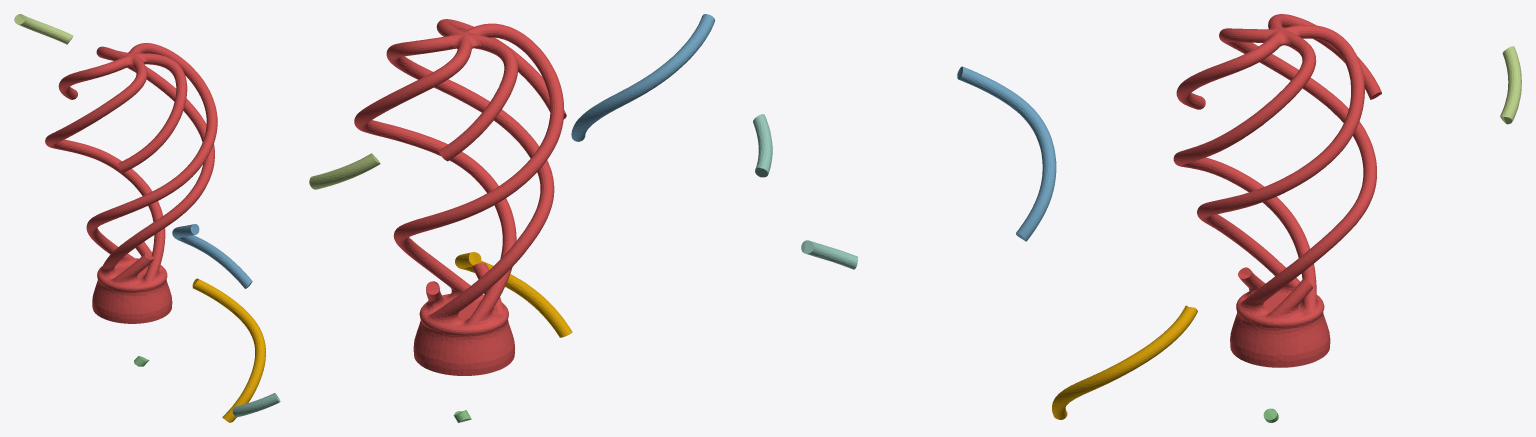
Rendered from fractured_6_6pcs_transformed.glb.
The picture shows the model from 3 angles, left to right: view 1: azimuth 30°, elevation 25°; view 2: azimuth 150°, elevation 25°; view 3: azimuth 270°, elevation 25°; orthographic projection. The views are drawn at different scales.
Parts seen in each view (by area): view 1: piece_1.obj, piece_0.obj, piece_2.obj, piece_5.obj, piece_4.obj; view 2: piece_1.obj, piece_2.obj, piece_0.obj, piece_5.obj, piece_4.obj; view 3: piece_1.obj, piece_2.obj, piece_0.obj, piece_5.obj, piece_4.obj.
Part boxes in pixels (x1,y1,x2,y2): piece_1.obj: (45, 43, 217, 323); piece_0.obj: (192, 278, 265, 422); piece_2.obj: (172, 224, 252, 288); piece_5.obj: (14, 14, 73, 44); piece_4.obj: (232, 393, 280, 417); piece_1.obj: (354, 19, 566, 375); piece_2.obj: (571, 14, 715, 141); piece_0.obj: (455, 252, 572, 337); piece_5.obj: (309, 153, 380, 189); piece_4.obj: (753, 114, 772, 177); piece_1.obj: (1173, 14, 1381, 367); piece_2.obj: (957, 66, 1056, 241); piece_0.obj: (1052, 305, 1197, 419); piece_5.obj: (1500, 46, 1521, 124); piece_4.obj: (801, 240, 858, 269).
Bounding box in the file's own units: 0.6206 × 1.23 × 2.06.
